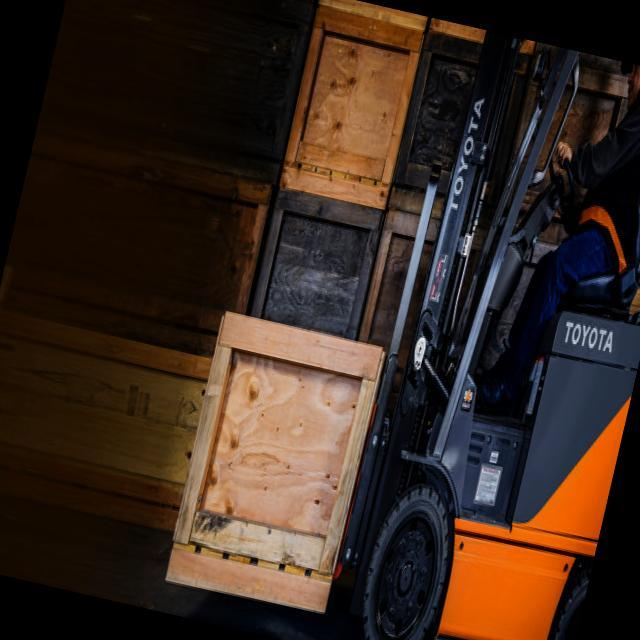driver: (476, 49, 640, 400)
forklift: (320, 29, 640, 640)
